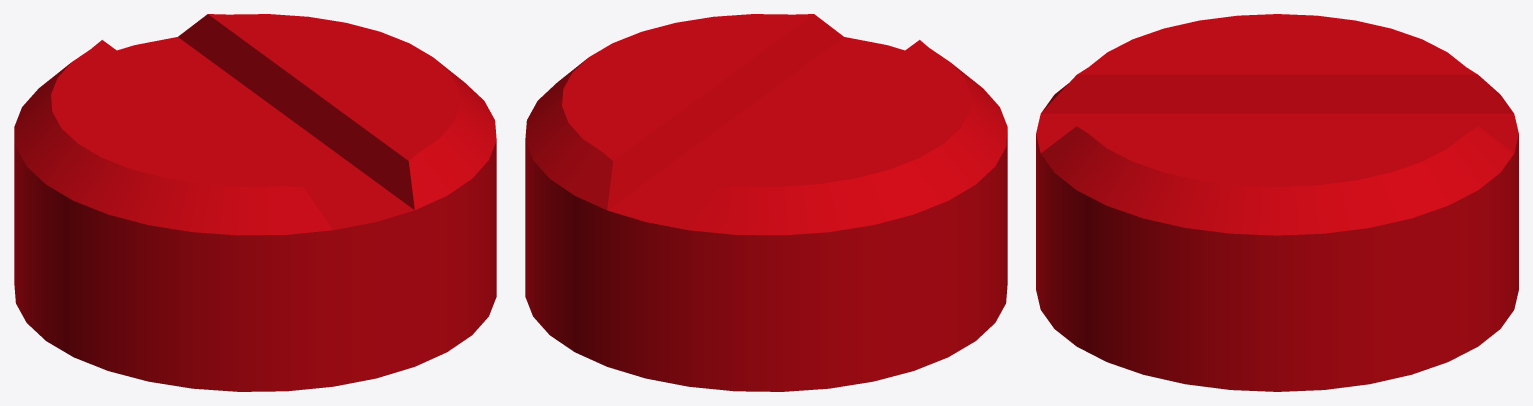
Rendered from 02-Gauge-Pin.fbx.
3 views of the same model, side by side, from view 1: azimuth 30°, elevation 25°; view 2: azimuth 150°, elevation 25°; view 3: azimuth 270°, elevation 25° (orthographic).
Visible parts, largest first — view 1: 02-Gauge-Pin; view 2: 02-Gauge-Pin; view 3: 02-Gauge-Pin.
Part boxes in pixels (x1=…): 02-Gauge-Pin: x1=14, y1=14, x2=496, y2=391; 02-Gauge-Pin: x1=525, y1=14, x2=1007, y2=391; 02-Gauge-Pin: x1=1036, y1=14, x2=1518, y2=391.
Size of the model in its own units: 15.26 by 6.61 by 15.26.
